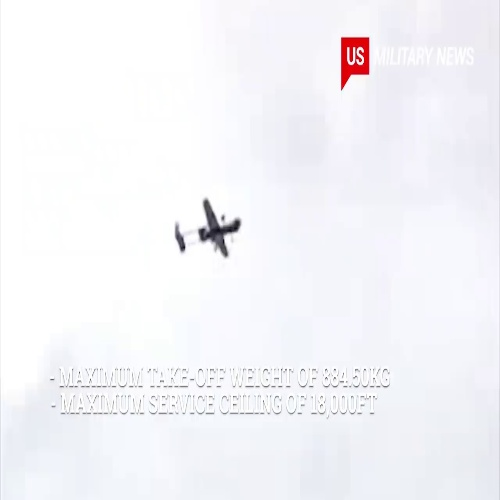uav531: (173, 194, 244, 260)
